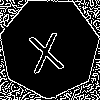X: (24, 23, 65, 74)
